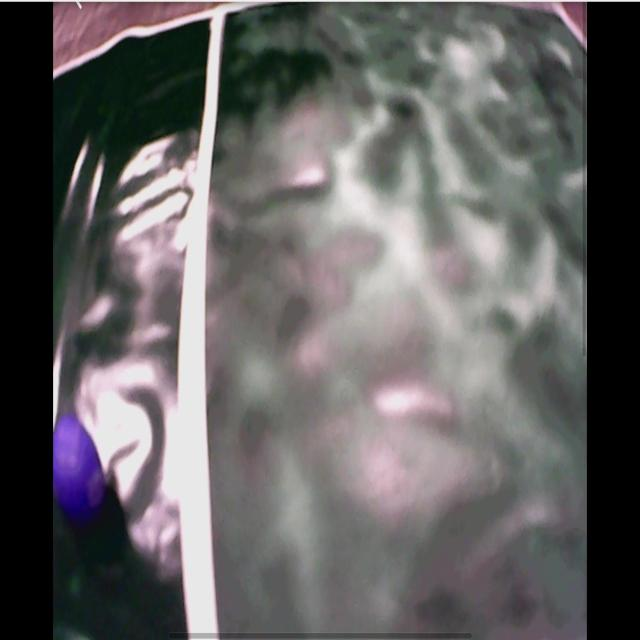ball: (55, 421, 106, 511)
